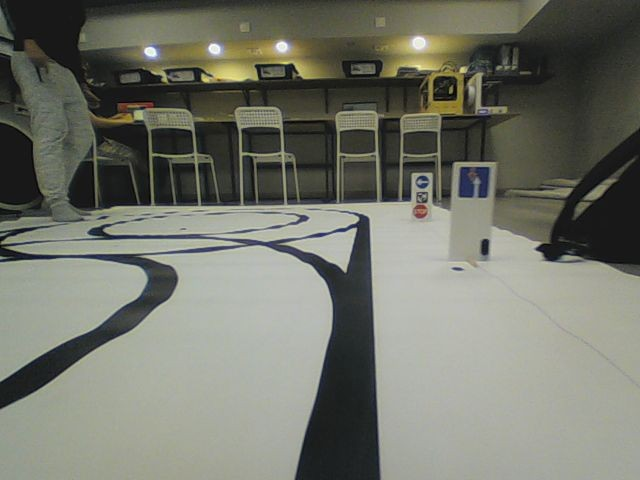Stop: (412, 203, 427, 218)
priority_movement: (457, 166, 491, 199)
